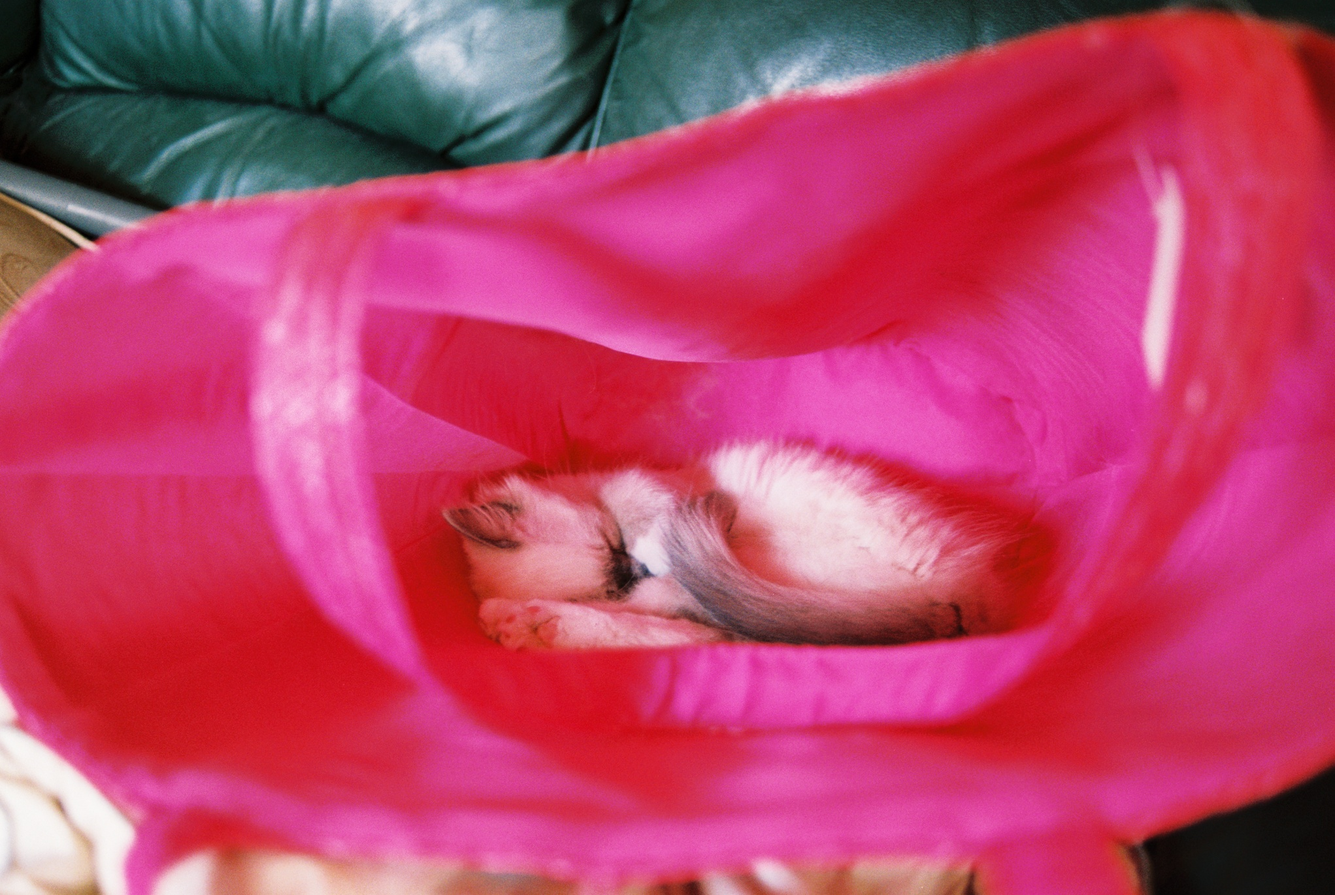cat: (441, 442, 1010, 645)
